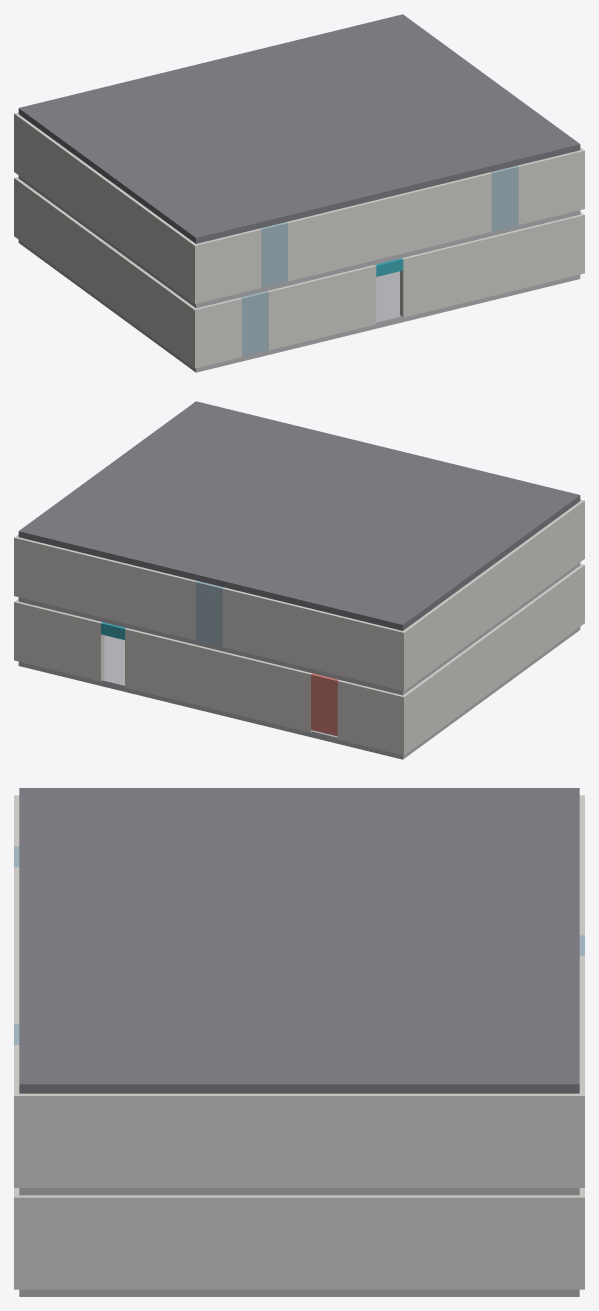
File: apartment_walkup_a02.glb
3 renders of one model, top to bottom at view 1: azimuth 30°, elevation 25°; view 2: azimuth 150°, elevation 25°; view 3: azimuth 270°, elevation 25°, orthographic. The views are drawn at different scales.
Visible parts, largest first — view 1: slab_2_t0_0, slab_2_t0_1, slab_2_t0_2, slab_2_t0_3, slab_2_t3_0, slab_2_t1_0, slab_2_t2_0, slab_2_t3_2, slab_2_t1_1, slab_2_t1_2, slab_2_t2_1, slab_2_t2_2 (+55 smaller); view 2: slab_2_t3_0, slab_2_t3_1, slab_2_t3_3, slab_2_t3_2, slab_2_t0_0, slab_2_t1_0, slab_2_t2_0, slab_2_t0_2, slab_2_t0_1, slab_2_t1_1, slab_2_t1_2, slab_2_t2_1 (+52 smaller); view 3: slab_2_t0_3, slab_2_t1_3, slab_2_t2_3, slab_2_t3_3, slab_2_t0_0, slab_2_t0_1, slab_2_t0_2, slab_2_t1_0, slab_2_t1_1, slab_2_t1_2, slab_2_t2_0, slab_2_t2_1 (+32 smaller).
Part boxes in pixels (x1,y1,x2,y2): slab_2_t0_0: [151, 182, 292, 243]; slab_2_t0_1: [248, 158, 388, 220]; slab_2_t0_2: [344, 135, 484, 196]; slab_2_t0_3: [440, 112, 580, 173]; slab_2_t3_0: [18, 84, 158, 146]; slab_2_t1_0: [107, 149, 246, 210]; slab_2_t2_0: [63, 117, 202, 178]; slab_2_t3_2: [211, 37, 350, 93]; slab_2_t1_1: [203, 126, 343, 181]; slab_2_t1_2: [300, 102, 439, 158]; slab_2_t2_1: [159, 93, 298, 149]; slab_2_t2_2: [255, 70, 394, 125]; slab_2_t3_0: [306, 569, 447, 630]; slab_2_t3_1: [210, 545, 350, 607]; slab_2_t3_3: [18, 499, 158, 560]; slab_2_t3_2: [114, 522, 254, 583]; slab_2_t0_0: [440, 471, 580, 533]; slab_2_t1_0: [396, 504, 535, 565]; slab_2_t2_0: [352, 536, 491, 597]; slab_2_t0_2: [248, 424, 387, 480]; slab_2_t0_1: [344, 448, 483, 503]; slab_2_t1_1: [300, 480, 439, 536]; slab_2_t1_2: [204, 457, 343, 512]; slab_2_t2_1: [255, 513, 395, 568]; slab_2_t0_3: [19, 1010, 159, 1093]; slab_2_t1_3: [159, 1010, 299, 1093]; slab_2_t2_3: [299, 1010, 439, 1093]; slab_2_t3_3: [439, 1010, 579, 1093]; slab_2_t0_0: [19, 788, 159, 861]; slab_2_t0_1: [19, 862, 159, 935]; slab_2_t0_2: [19, 936, 159, 1009]; slab_2_t1_0: [159, 788, 299, 861]; slab_2_t1_1: [159, 862, 299, 935]; slab_2_t1_2: [159, 936, 299, 1009]; slab_2_t2_0: [299, 788, 439, 861]; slab_2_t2_1: [299, 862, 439, 935].
Size of what is drawn, in the model's own units: 20.3 by 6.7 by 16.3.
